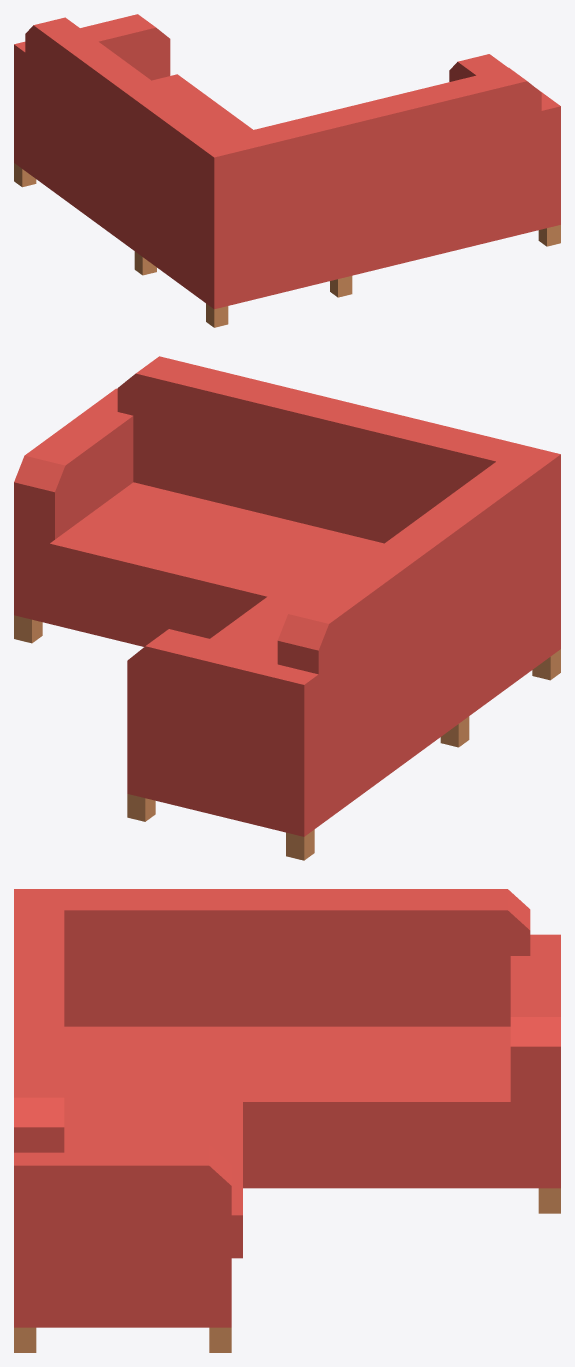
File: Lounge Sofa Corner.glb
The picture shows the model from 3 angles, top to bottom: view 1: azimuth 30°, elevation 25°; view 2: azimuth 150°, elevation 25°; view 3: azimuth 270°, elevation 25°; orthographic projection. The views are drawn at different scales.
Parts seen in each view (by area): view 1: loungeSofaCorner; view 2: loungeSofaCorner; view 3: loungeSofaCorner.
Part boxes in pixels (x1,y1,x2,y2): loungeSofaCorner: (14,14,560,327); loungeSofaCorner: (14,356,560,860); loungeSofaCorner: (14,889,560,1352).
Size of the model in its own units: 0.98 by 0.46 by 0.98.
